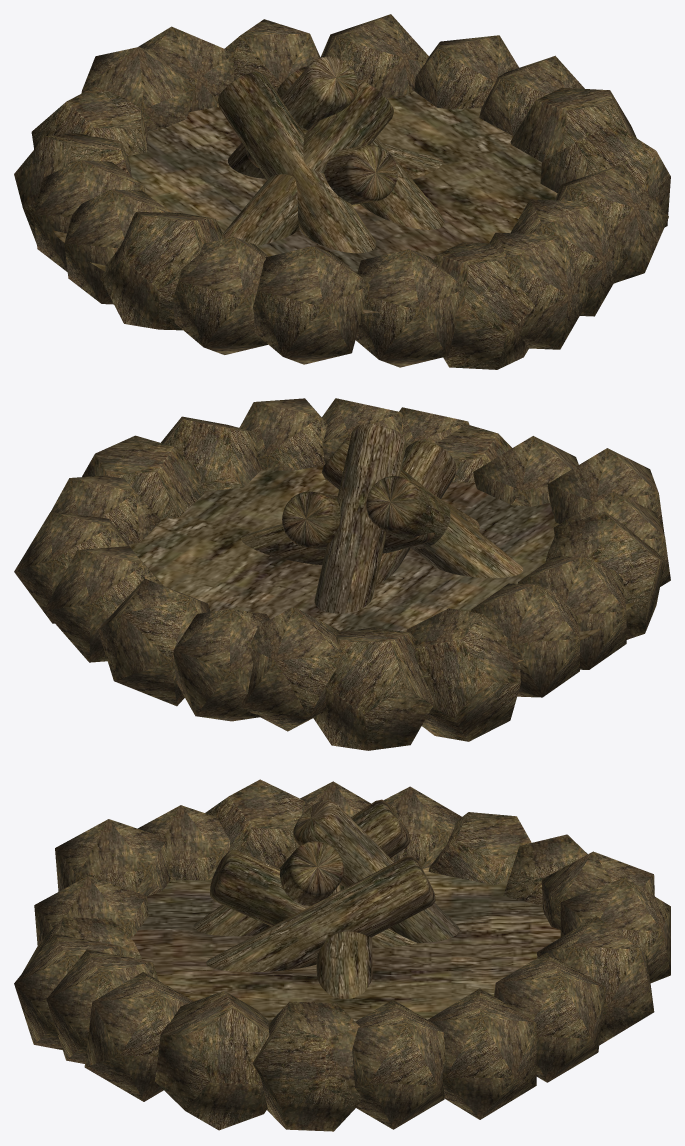
The model's file is Campfire_Model.fbx.
3 renders of one model, top to bottom at view 1: azimuth 30°, elevation 25°; view 2: azimuth 150°, elevation 25°; view 3: azimuth 270°, elevation 25°, orthographic.
Visible parts, largest first — view 1: Disc, Stone.2, log.2, Stone, Stone.4, Stone.10, Stone.3, log.3, Stone.11, Stone.12, Stone.17, Stone.5 (+15 smaller); view 2: Disc, Stone.7, Stone.8, log, Stone.9, Stone.19, Stone.20, Stone.6, Stone.18, Stone.4, Stone.5, Stone.14 (+15 smaller); view 3: Disc, Stone.16, Stone.14, log.4, Stone.13, Stone.15, Stone.18, Stone.17, Stone.19, Stone.2, Stone.20, log (+15 smaller).
Boxes of the visible parts, left/top/right/bottom form: Disc: left=53, top=91, right=557, bottom=313; Stone.2: left=253, top=246, right=370, bottom=364; log.2: left=218, top=71, right=376, bottom=253; Stone: left=355, top=249, right=462, bottom=367; Stone.4: left=101, top=212, right=225, bottom=330; Stone.10: left=433, top=242, right=534, bottom=369; Stone.3: left=173, top=236, right=268, bottom=354; log.3: left=223, top=79, right=393, bottom=245; Stone.11: left=489, top=232, right=593, bottom=349; Stone.12: left=510, top=199, right=628, bottom=316; Stone.17: left=555, top=164, right=668, bottom=283; Stone.5: left=64, top=189, right=170, bottom=304; Disc: left=129, top=465, right=636, bottom=677; Stone.7: left=406, top=608, right=520, bottom=741; Stone.8: left=313, top=627, right=433, bottom=750; log: left=314, top=424, right=406, bottom=613; Stone.9: left=241, top=607, right=341, bottom=731; Stone.19: left=98, top=578, right=210, bottom=706; Stone.20: left=173, top=609, right=269, bottom=721; Stone.6: left=471, top=583, right=579, bottom=697; Stone.18: left=44, top=546, right=163, bottom=662; Stone.4: left=545, top=511, right=665, bottom=639; Stone.5: left=518, top=556, right=626, bottom=669; Stone.14: left=82, top=435, right=204, bottom=518; Disc: left=130, top=867, right=560, bottom=1021; Stone.16: left=155, top=991, right=269, bottom=1130; Stone.14: left=252, top=1001, right=362, bottom=1131; log.4: left=206, top=856, right=435, bottom=972; Stone.13: left=428, top=988, right=536, bottom=1119; Stone.15: left=352, top=999, right=445, bottom=1129; Stone.18: left=494, top=952, right=605, bottom=1082; Stone.17: left=84, top=972, right=193, bottom=1101; Stone.19: left=536, top=916, right=654, bottom=1045; Stone.2: left=55, top=819, right=170, bottom=896; Stone.20: left=560, top=877, right=670, bottom=982; log: left=293, top=800, right=459, bottom=942.
Bounding box in the file's own units: 229 × 86.75 × 235.
